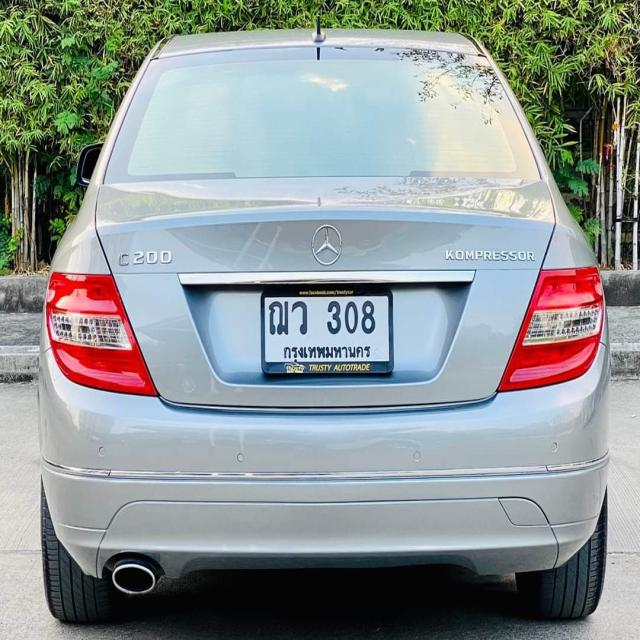license_plate: (260, 285, 394, 377)
